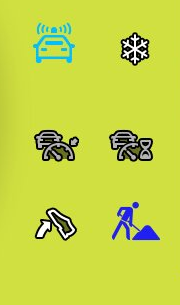ACCELERATOR: (31, 200, 87, 245)
ACC_AKTIV: (29, 127, 86, 166)
ACC_WAITING: (104, 127, 161, 165)
CONSTRUCTION: (107, 198, 167, 250)
EISSTERN: (115, 23, 155, 70)
SEV_INF: (27, 15, 79, 71)
